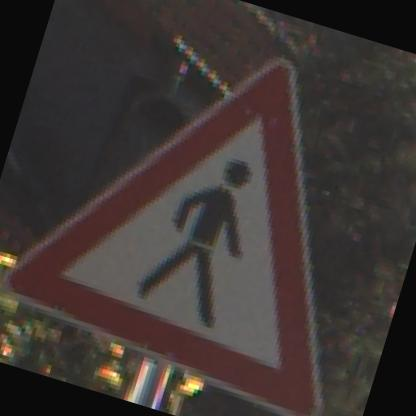crosswalk: (0, 5, 407, 415)
